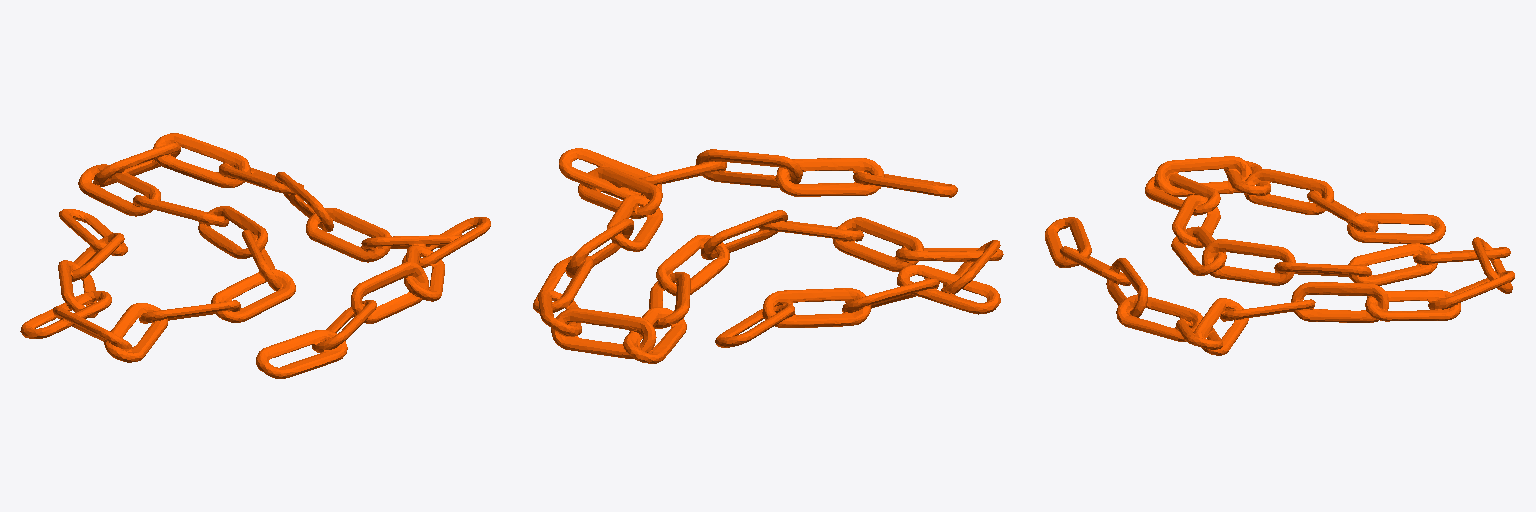
robot.urdf — 059_chain:
<?xml version="1.0" ?>
<robot name="059_chain">
   <material name="obj_color">
      <color rgba="1.0 0.423529411765 0.0392156862745 1.0"/>
   </material>
   <link name="top">
      <inertial>
         <origin rpy="0.001181045111748409 0.00143842439443519 0.002608349484589449" xyz="-0.0005776160712589311 -0.001998235366733639 -4.716250867759186e-05"/>
         <mass value="0.2193115327661492"/>
         <inertia ixx="0.001395038921574795" ixy="-9.643815248292596e-05" ixz="-1.167295469986248e-05" iyy="0.001224543908027967" iyz="-2.113074102637495e-06" izz="0.002608236161170286"/>
      </inertial>
      <visual>
         <origin rpy="0 0 0" xyz="0 0 0"/>
         <geometry>
            <mesh filename="top_watertight_tiny.stl" scale="1 1 1"/>
         </geometry>
         <material name="obj_color"/>
      </visual>
      <collision>
         <origin rpy="0 0 0" xyz="0 0 0"/>
         <geometry>
            <mesh filename="top_watertight_tiny.obj" scale="1 1 1"/>
         </geometry>
      </collision>
   </link>
   <link name="bottom">
      <inertial>
         <origin rpy="1.633333333199431e-08 1.633333333199431e-08 1.633333333362855e-08" xyz="0.3464080000000008 0.3464080000000008 0.3464080000000008"/>
         <mass value="0.0009800000000000017"/>
         <inertia ixx="1.633333333253906e-08" ixy="5.447480642029219e-19" ixz="5.447480642029219e-19" iyy="1.633333333253906e-08" iyz="5.447480642029219e-19" izz="1.633333333253906e-08"/>
      </inertial>
      <visual>
         <origin rpy="0 0 0" xyz="0 0 0"/>
         <geometry>
            <mesh filename="bottom_watertight_tiny.stl" scale="1 1 1"/>
         </geometry>
         <material name="obj_color"/>
      </visual>
   </link>
   <joint name="rotation" type="revolute">
      <origin xyz="0 0 0"/>
      <axis xyz="0 0 -1"/>
      <parent link="bottom"/>
      <child link="top"/>
      <dynamics damping="1.0" friction="1.0"/>
      <limit effort="0.1" velocity="0.1" lower="0" upper="0.001"/>
   </joint>
</robot>

--- Facts derived from the render (not from the file) ---
3 views of the same robot in one strip: view 1: azimuth 30°, elevation 25°; view 2: azimuth 150°, elevation 25°; view 3: azimuth 270°, elevation 25° (orthographic).
Model 059_chain with 2 links and 1 joints (1 revolute), rooted at bottom, posed every joint at zero.
Links seen in each view (by area): view 1: top; view 2: top; view 3: top.
Link boxes in pixels (x1,y1,x2,y2): top: (20,133,490,378); top: (533,148,1003,363); top: (1045,156,1514,355).
Size in the robot's own frame: 0.3103 by 0.3072 by 0.0248 metres.
Meshes: 2 distinct files referenced, 1 mesh visuals loaded (1 binary STL); not drawn: 1 (reference not matched to a file when rendering).
